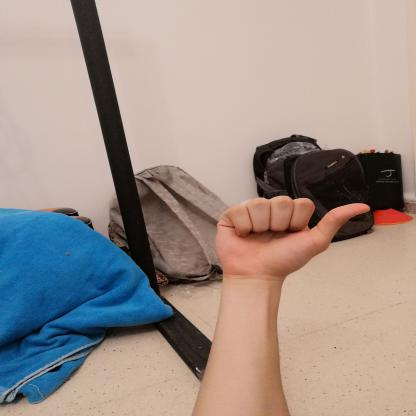DAD: (203, 187, 382, 287)
